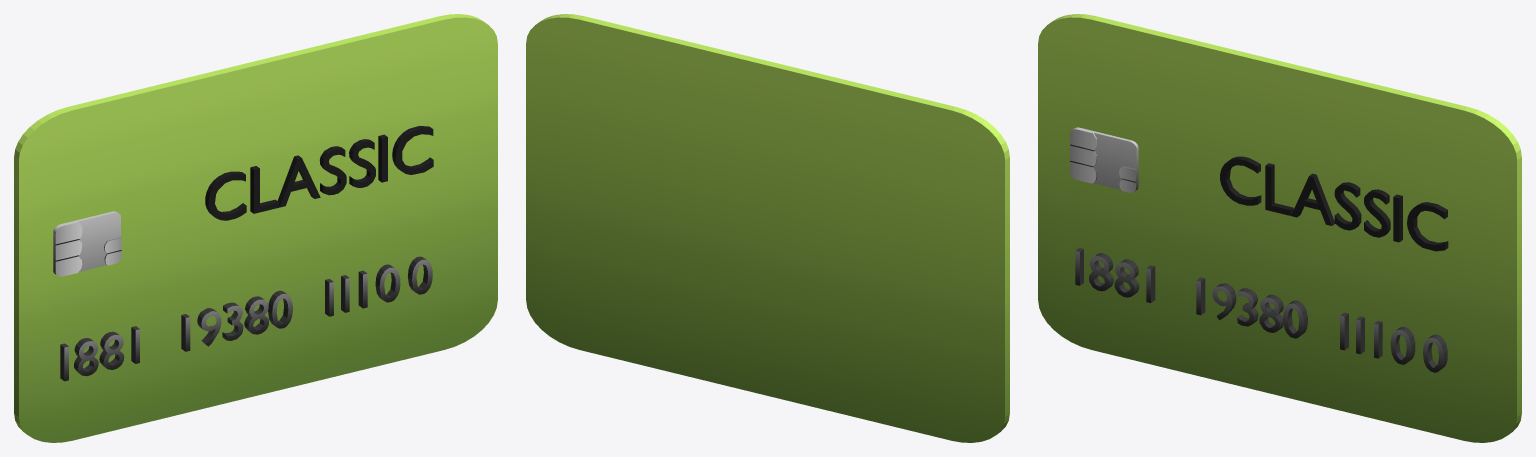
The model's file is classıc.fbx.
3 renders of one model, left to right at view 1: azimuth 30°, elevation 25°; view 2: azimuth 150°, elevation 25°; view 3: azimuth 330°, elevation 25°, orthographic.
Parts seen in each view (by area): view 1: classıc; view 2: classıc; view 3: classıc.
Part boxes in pixels (x1,y1,x2,y2): classıc: (14, 14, 497, 442); classıc: (526, 14, 1009, 442); classıc: (1038, 14, 1521, 442).
Bounding box in the file's own units: 130 × 85.51 × 4.2.
